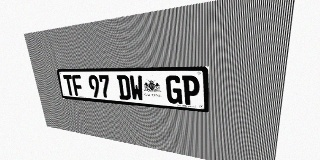7: (98, 75, 112, 99)
9: (88, 75, 101, 98)
D: (117, 75, 131, 100)
F: (71, 75, 84, 96)
G: (165, 75, 182, 104)
P: (182, 75, 200, 106)
T: (63, 75, 75, 96)
W: (129, 75, 144, 101)
